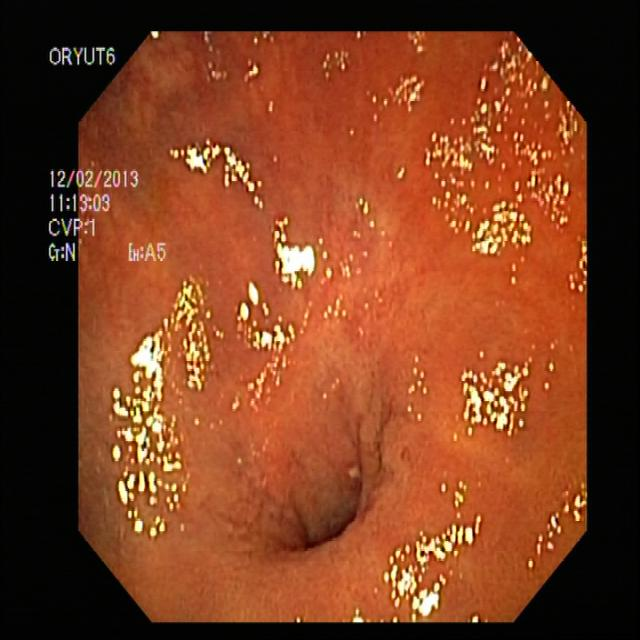ulcerative-colities: (345, 366, 561, 627), (83, 275, 238, 568)
